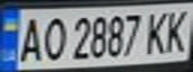2: (69, 12, 93, 61)
7: (124, 10, 145, 57)
8: (106, 11, 127, 58), (90, 11, 109, 60)
A: (15, 12, 45, 63)
K: (160, 6, 193, 54), (142, 7, 172, 55)
O: (39, 12, 69, 63)
